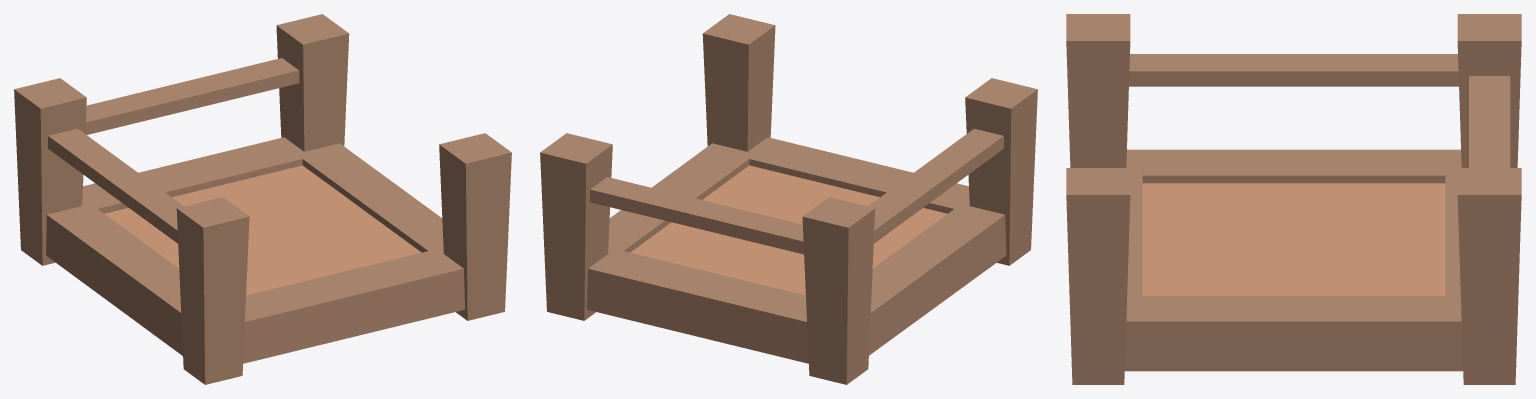
Rendered from bridge_3_part_5.fbx.
3 renders of one model, left to right at view 1: azimuth 30°, elevation 25°; view 2: azimuth 150°, elevation 25°; view 3: azimuth 270°, elevation 25°, orthographic. The views are drawn at different scales.
Parts seen in each view (by area): view 1: bridge_3_part_5; view 2: bridge_3_part_5; view 3: bridge_3_part_5.
Boxes of the visible parts, x1,y1,x2,y2 form: bridge_3_part_5: (14, 14, 511, 384); bridge_3_part_5: (540, 14, 1037, 384); bridge_3_part_5: (1066, 14, 1521, 384).
Bounding box in the file's own units: 10.11 × 5.01 × 10.75.
